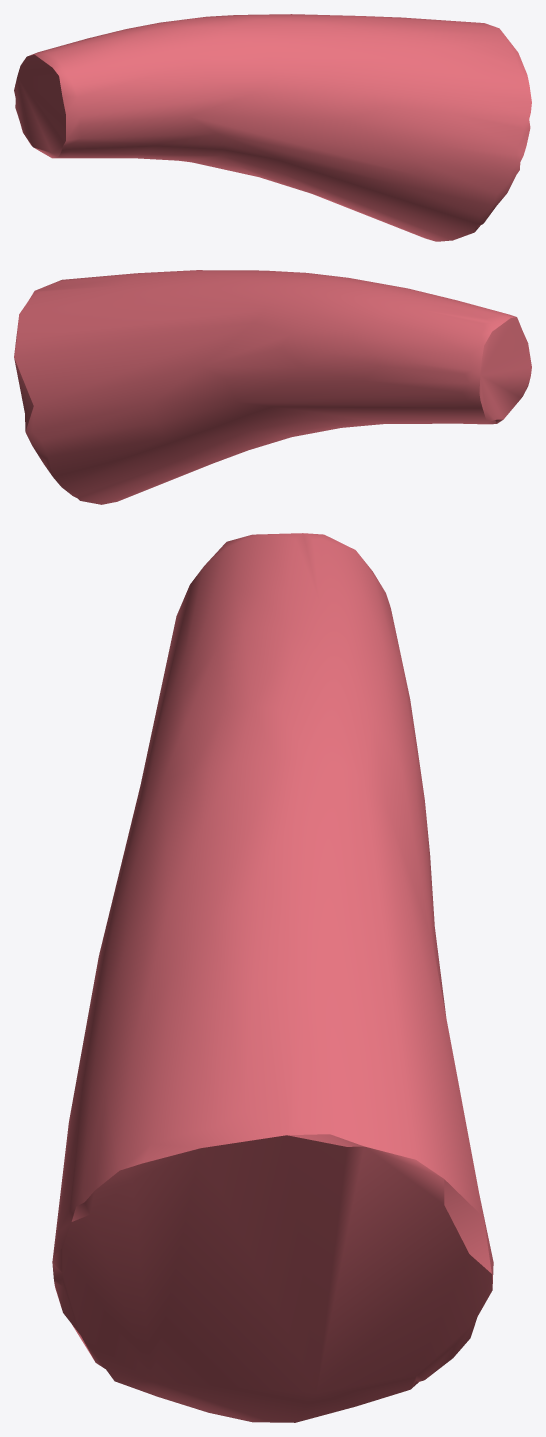
The model's file is fma8615_fj6043.glb.
The picture shows the model from 3 angles, top to bottom: view 1: azimuth 30°, elevation 25°; view 2: azimuth 150°, elevation 25°; view 3: azimuth 270°, elevation 25°; orthographic projection. The views are drawn at different scales.
Visible parts, largest first — view 1: FMA8615_FJ6043; view 2: FMA8615_FJ6043; view 3: FMA8615_FJ6043.
Part boxes in pixels (x1,y1,x2,y2): FMA8615_FJ6043: [14, 14, 531, 241]; FMA8615_FJ6043: [14, 270, 531, 504]; FMA8615_FJ6043: [52, 533, 493, 1422].
Size of the model in its own units: 0.0495 by 0.0274 by 0.0205.
